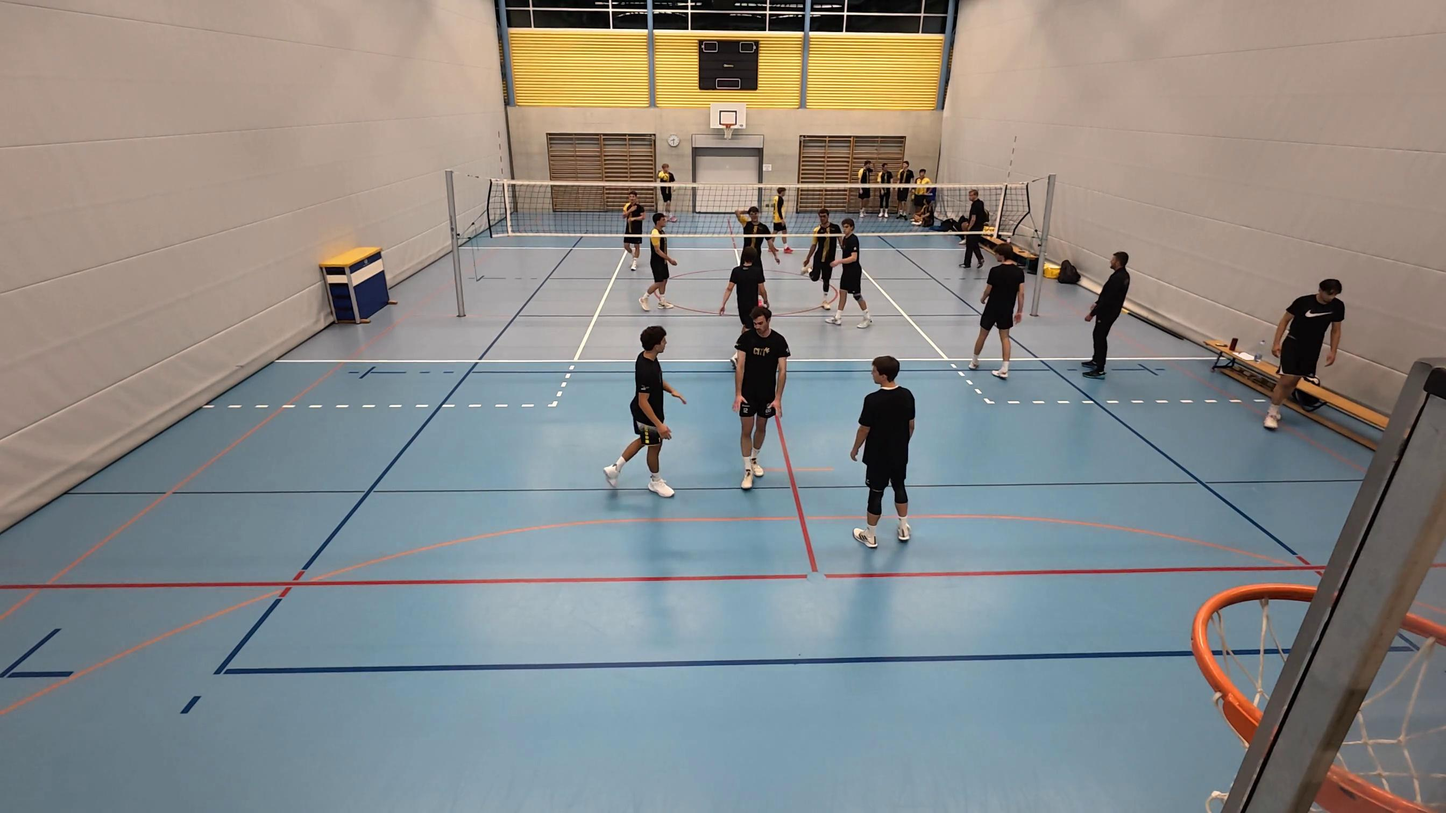Player: (604, 326, 684, 497), (851, 356, 916, 549), (733, 306, 789, 490), (966, 238, 1027, 379), (826, 218, 869, 329), (722, 244, 772, 333), (804, 208, 840, 309), (641, 213, 678, 311), (736, 203, 781, 270), (620, 189, 648, 272), (769, 187, 792, 260), (655, 163, 676, 224)
ball: (660, 167, 672, 182)
